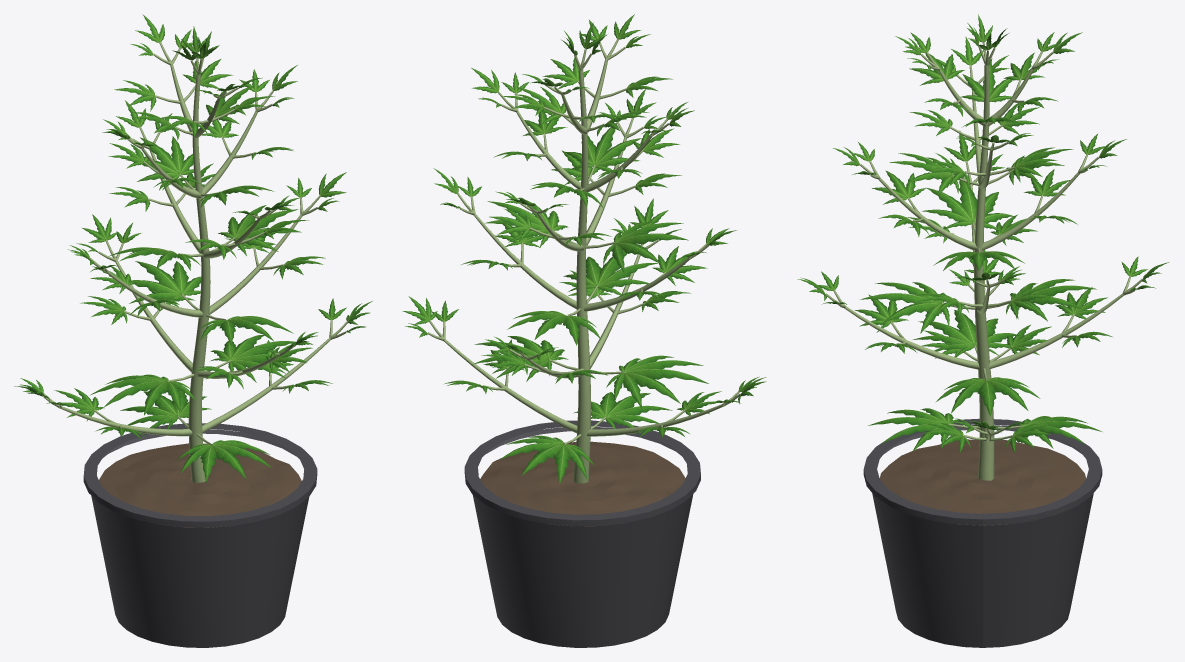
Rendered from zatla-plant.glb.
3 views of the same model, side by side, from view 1: azimuth 30°, elevation 25°; view 2: azimuth 150°, elevation 25°; view 3: azimuth 270°, elevation 25° (orthographic).
Visible parts, largest first — view 1: Zatla_Plant; view 2: Zatla_Plant; view 3: Zatla_Plant.
Part boxes in pixels (box(x1,y1,x2,y2)): Zatla_Plant: box(14, 14, 372, 647); Zatla_Plant: box(402, 14, 766, 647); Zatla_Plant: box(797, 14, 1169, 647).
Size of the model in its own units: 0.6241 by 0.968 by 0.5582.
Materials: 4 (1 with a texture image).
